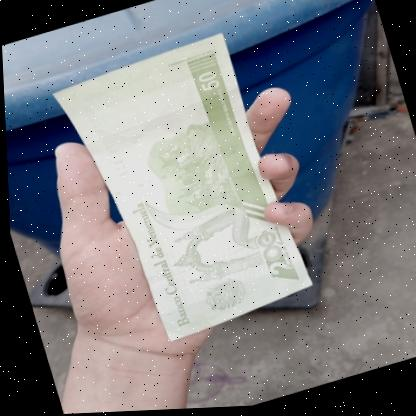fifty-back-vef: (47, 28, 316, 358)
